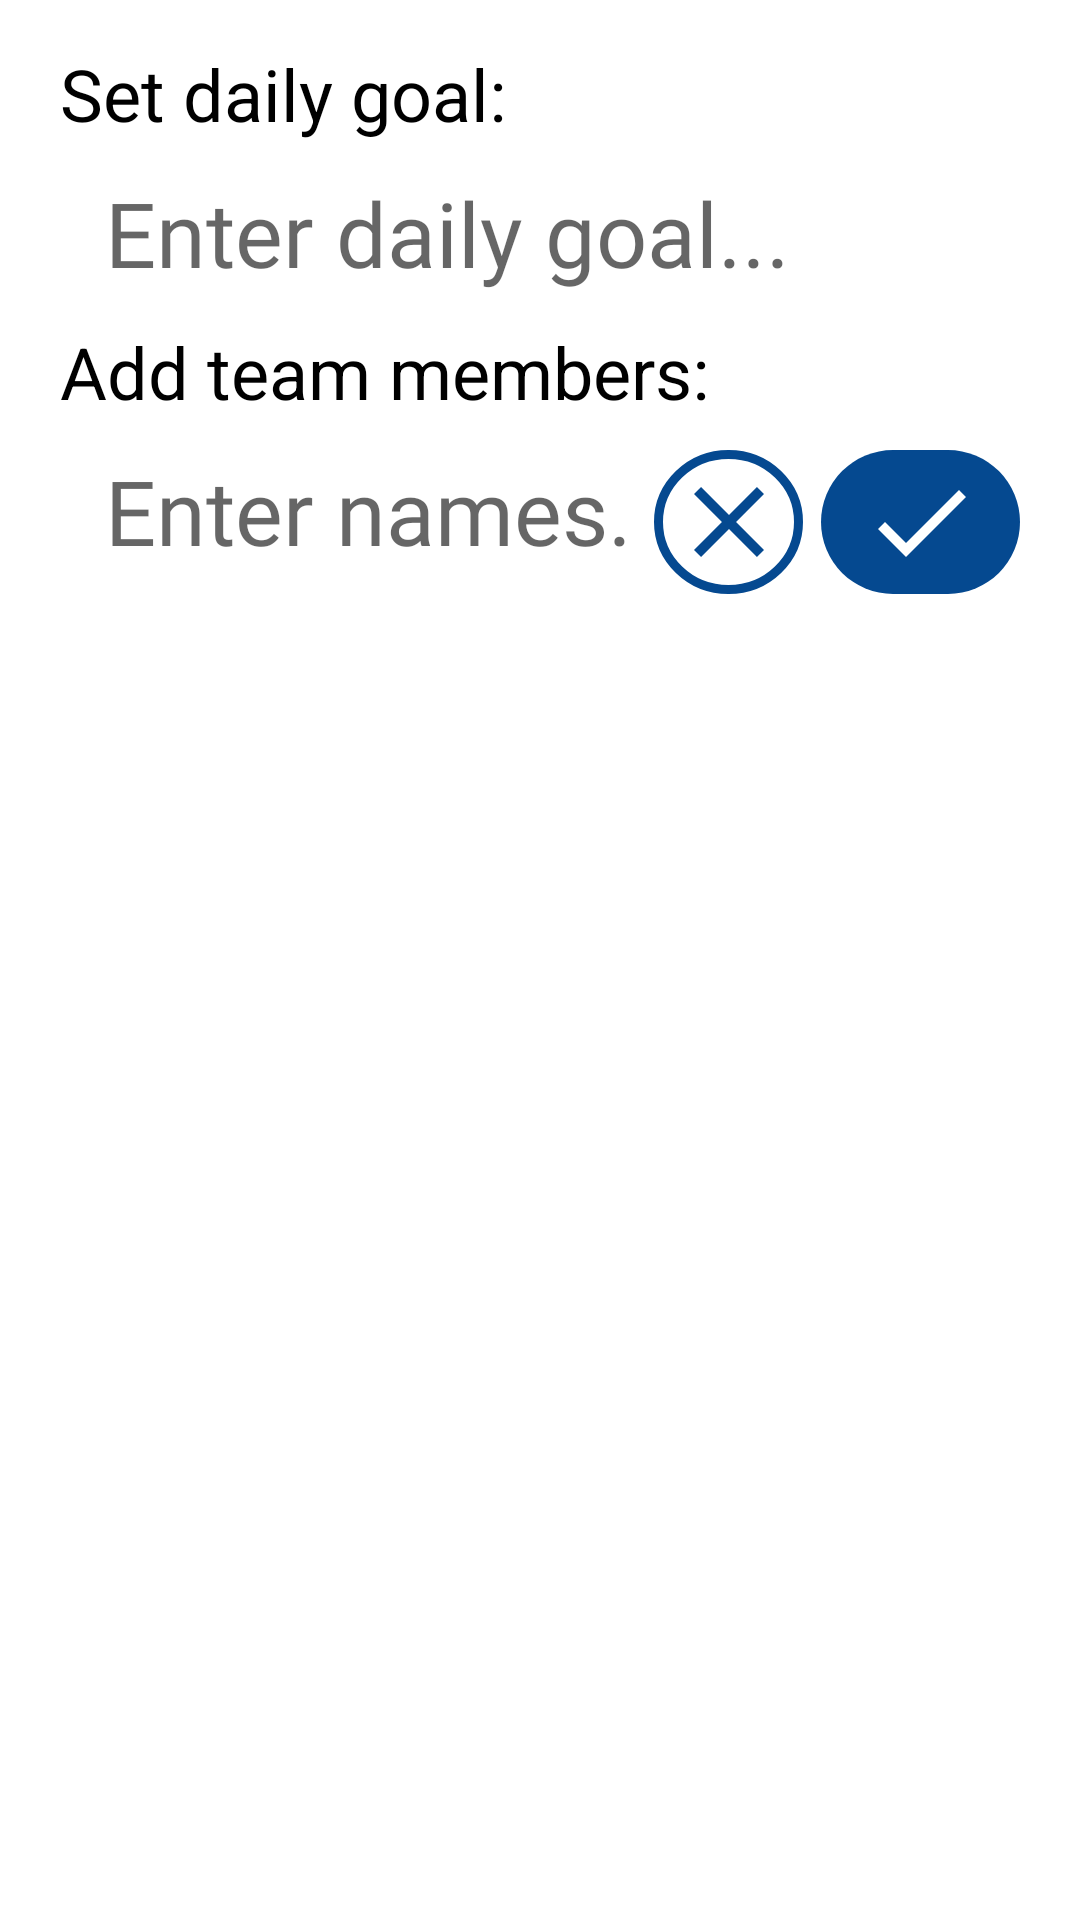

Where icons sit on this 1080px x 1920px app screen, as (x1, y1, x2, y2):
clear bismblue mini: (654, 450, 803, 594)
done mini: (821, 450, 1020, 594)
